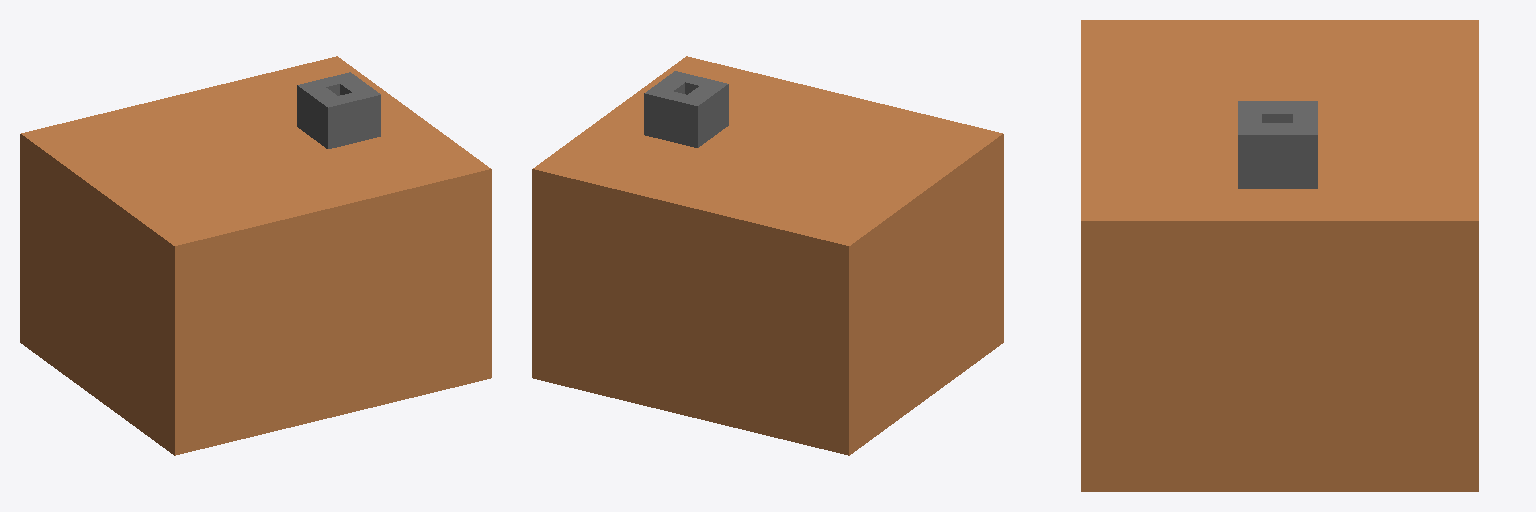
The robot description file, URDF, robot "peg_in_hole_tolerances_scenes_scene_0095_tol04":
<?xml version="1.0"?>
<robot name="peg_in_hole_tolerances_scenes_scene_0095_tol04">
  <material name="wood"><color rgba="0.82 0.56 0.35 1.0"/></material>
  <material name="hole_grey"><color rgba="0.4706 0.4706 0.4706 1.0"/></material>
  <link name="box">
    <visual>
      <origin xyz="0.000000 0.000000 0.000000" rpy="0 0 0"/>
      <geometry><box size="0.475000 0.400000 0.300000"/></geometry>
      <material name="wood"/>
    </visual>
    <collision>
      <origin xyz="0.000000 0.000000 0.000000" rpy="0 0 0"/>
      <geometry><box size="0.475000 0.400000 0.300000"/></geometry>
    </collision>
    <visual>
      <origin xyz="0.123436 -0.002259 0.155000" rpy="0 0 0"/>
      <geometry><box size="0.080000 0.080000 0.010000"/></geometry>
      <material name="hole_grey"/>
    </visual>
    <collision>
      <origin xyz="0.123436 -0.002259 0.155000" rpy="0 0 0"/>
      <geometry><box size="0.080000 0.080000 0.010000"/></geometry>
    </collision>
    <visual>
      <origin xyz="0.148790 -0.002259 0.185000" rpy="0 0 0"/>
      <geometry><box size="0.029293 0.080000 0.050000"/></geometry>
      <material name="hole_grey"/>
    </visual>
    <collision>
      <origin xyz="0.148790 -0.002259 0.185000" rpy="0 0 0"/>
      <geometry><box size="0.029293 0.080000 0.050000"/></geometry>
    </collision>
    <visual>
      <origin xyz="0.098083 -0.002259 0.185000" rpy="0 0 0"/>
      <geometry><box size="0.029293 0.080000 0.050000"/></geometry>
      <material name="hole_grey"/>
    </visual>
    <collision>
      <origin xyz="0.098083 -0.002259 0.185000" rpy="0 0 0"/>
      <geometry><box size="0.029293 0.080000 0.050000"/></geometry>
    </collision>
    <visual>
      <origin xyz="0.123436 0.025594 0.185000" rpy="0 0 0"/>
      <geometry><box size="0.021414 0.024293 0.050000"/></geometry>
      <material name="hole_grey"/>
    </visual>
    <collision>
      <origin xyz="0.123436 0.025594 0.185000" rpy="0 0 0"/>
      <geometry><box size="0.021414 0.024293 0.050000"/></geometry>
    </collision>
    <visual>
      <origin xyz="0.123436 -0.030113 0.185000" rpy="0 0 0"/>
      <geometry><box size="0.021414 0.024293 0.050000"/></geometry>
      <material name="hole_grey"/>
    </visual>
    <collision>
      <origin xyz="0.123436 -0.030113 0.185000" rpy="0 0 0"/>
      <geometry><box size="0.021414 0.024293 0.050000"/></geometry>
    </collision>
    <inertial>
      <mass value="500"/>
      <friction value="1.0"/>
      <inertia ixx="1000.0" ixy="0.0" ixz="0.0" iyy="1000.0" iyz="0.0" izz="1000.0"/>
    </inertial>
  </link>
</robot>

--- Render facts (derived) ---
3 views of the same robot in one strip: view 1: azimuth 30°, elevation 25°; view 2: azimuth 150°, elevation 25°; view 3: azimuth 270°, elevation 25° (orthographic).
Robot: peg_in_hole_tolerances_scenes_scene_0095_tol04 — 1 links, 0 joints (none); root link box; default pose: every joint at zero.
Links seen in each view (by area): view 1: box; view 2: box; view 3: box.
Boxes of the visible links, x1,y1,x2,y2 form: box: [20, 56, 491, 455]; box: [532, 56, 1003, 455]; box: [1081, 20, 1478, 491].
Bounding box of the posed robot: 0.475 × 0.4 × 0.36 m (x, y, z).
Geometry: primitives only (box / cylinder / sphere), no mesh files.
